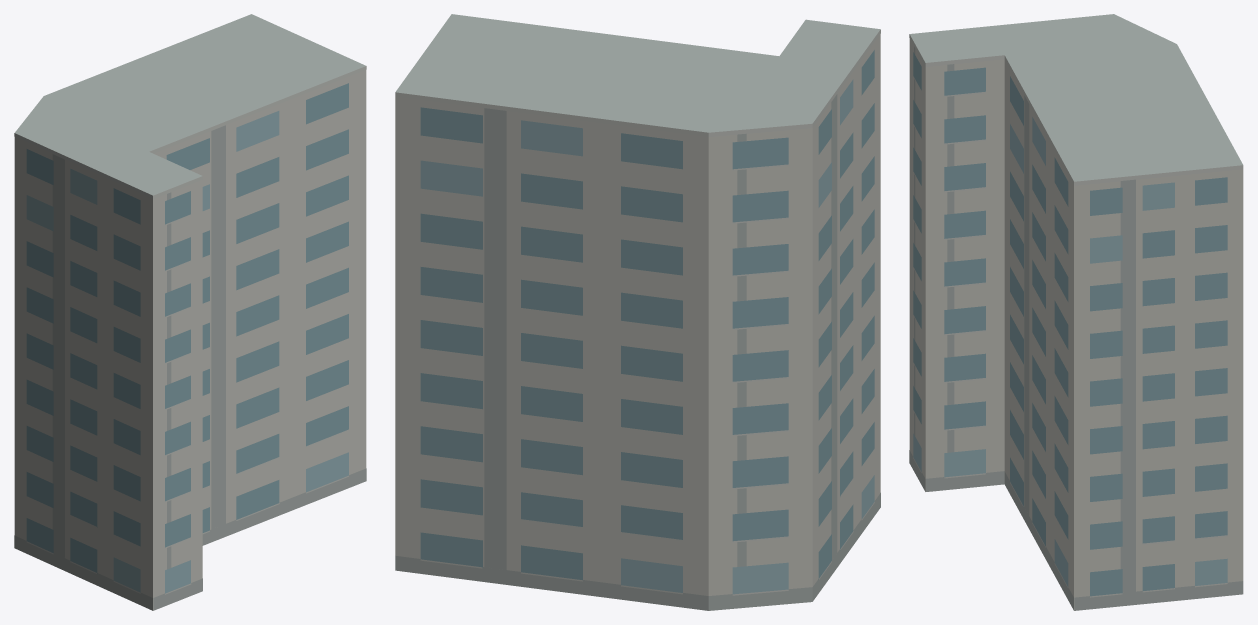
File: residential-7f800353-8219-4f8d-ab40-e38d1e801533.glb
3 views of the same model, side by side, from view 1: azimuth 30°, elevation 25°; view 2: azimuth 150°, elevation 25°; view 3: azimuth 270°, elevation 25° (orthographic). The views are drawn at different scales.
Parts seen in each view (by area): view 1: residential-7f800353-8219-4f8d-ab40-e38d1e801533.tmp; view 2: residential-7f800353-8219-4f8d-ab40-e38d1e801533.tmp; view 3: residential-7f800353-8219-4f8d-ab40-e38d1e801533.tmp.
Boxes of the visible parts, x1,y1,x2,y2 form: residential-7f800353-8219-4f8d-ab40-e38d1e801533.tmp: (14, 14, 366, 610); residential-7f800353-8219-4f8d-ab40-e38d1e801533.tmp: (395, 14, 880, 610); residential-7f800353-8219-4f8d-ab40-e38d1e801533.tmp: (909, 14, 1243, 610).
Size of the model in its own units: 22.64 by 27 by 19.05.
